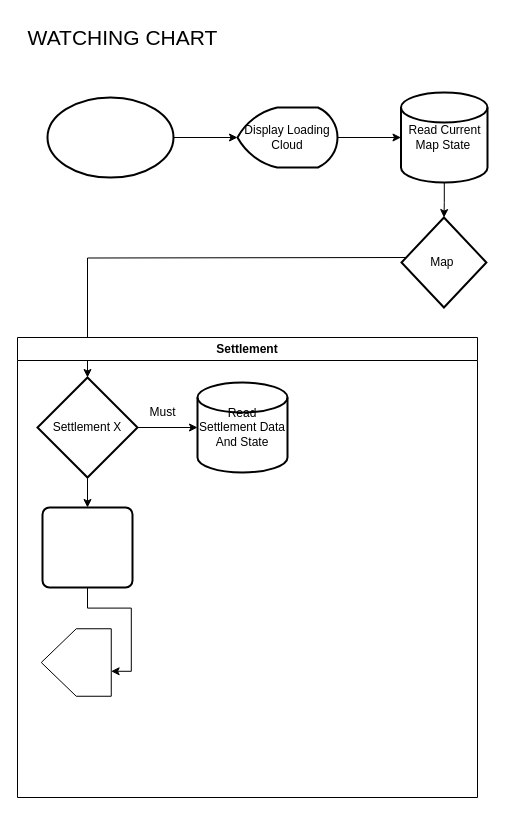
Image size: 506x815. Some labels were removed from this diagram. The shapes that lost their labels are listed below. From the top down, each one's box as (x1, y1, x2, y2) in pixels, then its label:
(46, 96, 174, 178): Watching From Main game
(41, 506, 133, 588): Enter Settlement X
(40, 628, 111, 696): Settlement Watching
